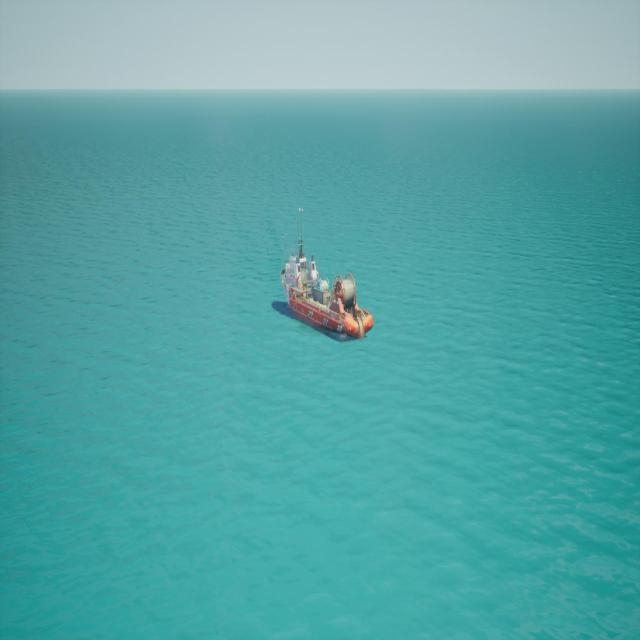tug boat: (274, 208, 374, 346)
